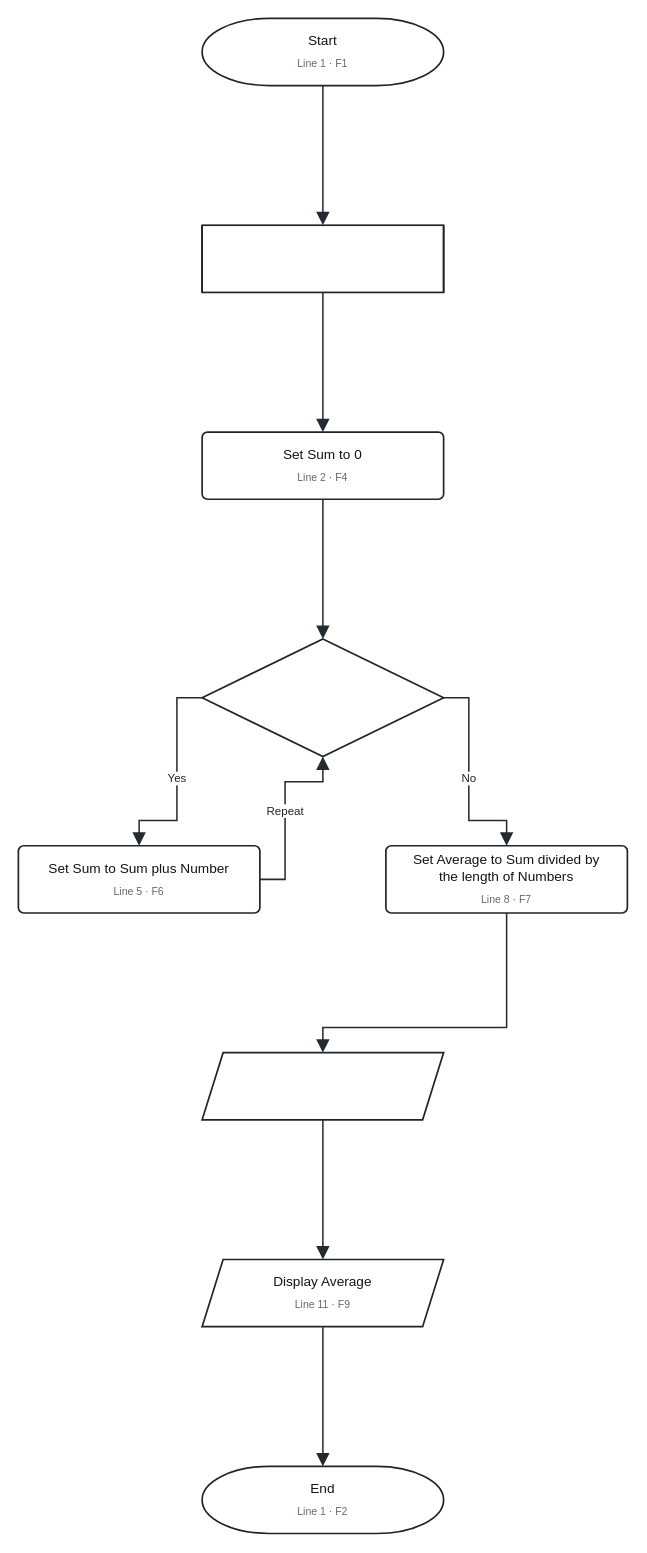
This 647x1553 diagram has some shape labels left out. The centre of each missing label's shape, as x and y in pixels:
"Display Sum Line 10 · F8" goes at (322,1085).
"For each Number in Numbers Line 4 · F5" goes at (322,697).
"Run function unnamed_function with Numbers Line 1 · F3" goes at (322,258).
